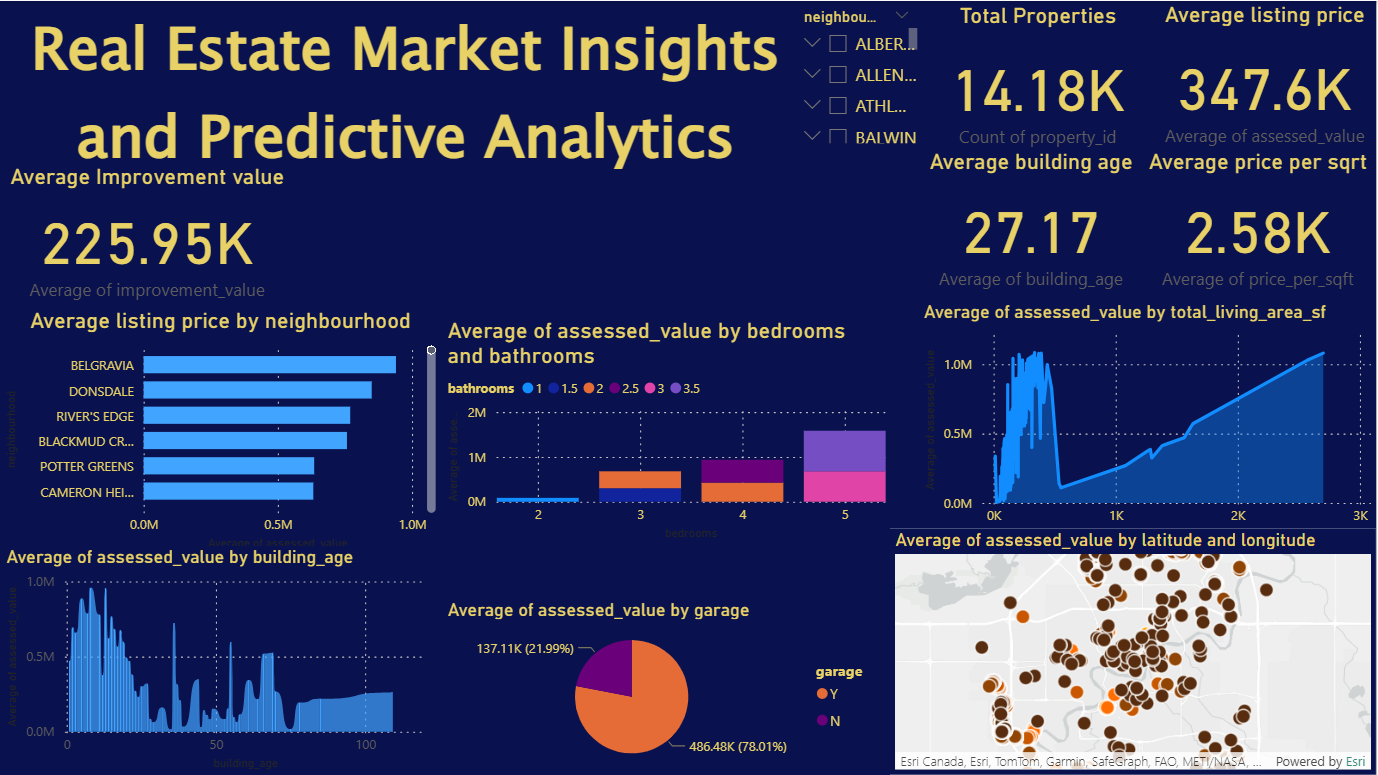

The page's visual inventory and layout, read from the dashboard file:
{"tool":"powerbi","page":{"name":"Page 1","canvas":[1280,720],"ordinal":0},"visuals":[{"type":"textbox","box":[0,0,754.7,177.9],"z":0},{"type":"card","title":"Total Properties","fields":{"Values":["CountNonNull(real_estate.property_id)"]},"box":[858.1,1.2,215.1,150],"z":1000},{"type":"card","title":"Average listing price","fields":{"Values":["Avg(real_estate.assessed_value)"]},"box":[1073.3,0,207,150],"z":2000},{"type":"card","title":"Average Improvement value","fields":{"Values":["Avg(real_estate.improvement_value)"]},"box":[0,151.2,274.4,133.7],"z":3000},{"type":"card","title":"Average building age","fields":{"Values":["Avg(real_estate.building_age)"]},"box":[858.1,137.2,202.3,141.9],"z":4000},{"type":"card","title":"Average price per sqrt","fields":{"Values":["Avg(real_estate.price_per_sqft)"]},"box":[1060.5,137.2,219.8,141.9],"z":5000},{"type":"barChart","title":"Average listing price by neighbourhood","fields":{"Y":["Avg(real_estate.assessed_value)"],"Category":["real_estate.neighbourhood"]},"box":[0,284.9,410.5,230.2],"z":6000},{"type":"columnChart","fields":{"Category":["real_estate.bedrooms"],"Series":["real_estate.bathrooms"],"Y":["Avg(real_estate.assessed_value)"]},"box":[411.6,294.2,417.4,211.6],"z":7000},{"type":"stackedAreaChart","fields":{"Category":["real_estate.total_living_area_sf"],"Y":["Avg(real_estate.assessed_value)"]},"box":[854.7,279.1,425.6,227.9],"z":8000},{"type":"ribbonChart","fields":{"Category":["real_estate.building_age"],"Y":["Avg(real_estate.assessed_value)"]},"box":[1.2,507,410.5,212.8],"z":9000},{"type":"pieChart","fields":{"Category":["real_estate.garage"],"Y":["Avg(real_estate.assessed_value)"]},"box":[411.6,555.8,416.3,164],"z":10000},{"type":"esriVisual","fields":{"Latitude":["real_estate.latitude"],"Longitude":["real_estate.longitude"],"Color":["Avg(real_estate.assessed_value)"]},"box":[827.9,490.7,452.3,229.1],"z":11000},{"type":"slicer","fields":{"Values":["real_estate.neighbourhood","real_estate.property_type"]},"box":[734.9,1.2,123.3,136],"z":12000}]}

Visuals, with their boxes in screenshot pixels (x1, y1, x2, y2), scaled from the page's 1280x720 canvas onto the 1378x775 screenshot:
textbox: pyautogui.locateOnScreen(0, 0, 812, 191)
"Total Properties" card: pyautogui.locateOnScreen(924, 1, 1155, 163)
"Average listing price" card: pyautogui.locateOnScreen(1155, 0, 1377, 161)
"Average Improvement value" card: pyautogui.locateOnScreen(0, 163, 295, 307)
"Average building age" card: pyautogui.locateOnScreen(924, 148, 1142, 300)
"Average price per sqrt" card: pyautogui.locateOnScreen(1142, 148, 1377, 300)
"Average listing price by neighbourhood" barChart: pyautogui.locateOnScreen(0, 307, 442, 554)
columnChart - real_estate.bedrooms x real_estate.bathrooms: pyautogui.locateOnScreen(443, 317, 892, 544)
stackedAreaChart - real_estate.total_living_area_sf x Avg(real_estate.assessed_value): pyautogui.locateOnScreen(920, 300, 1377, 546)
ribbonChart - real_estate.building_age x Avg(real_estate.assessed_value): pyautogui.locateOnScreen(1, 546, 443, 774)
pieChart - real_estate.garage x Avg(real_estate.assessed_value): pyautogui.locateOnScreen(443, 598, 891, 774)
esriVisual - real_estate.latitude x real_estate.longitude: pyautogui.locateOnScreen(891, 528, 1377, 774)
slicer - real_estate.neighbourhood x real_estate.property_type: pyautogui.locateOnScreen(791, 1, 924, 148)
